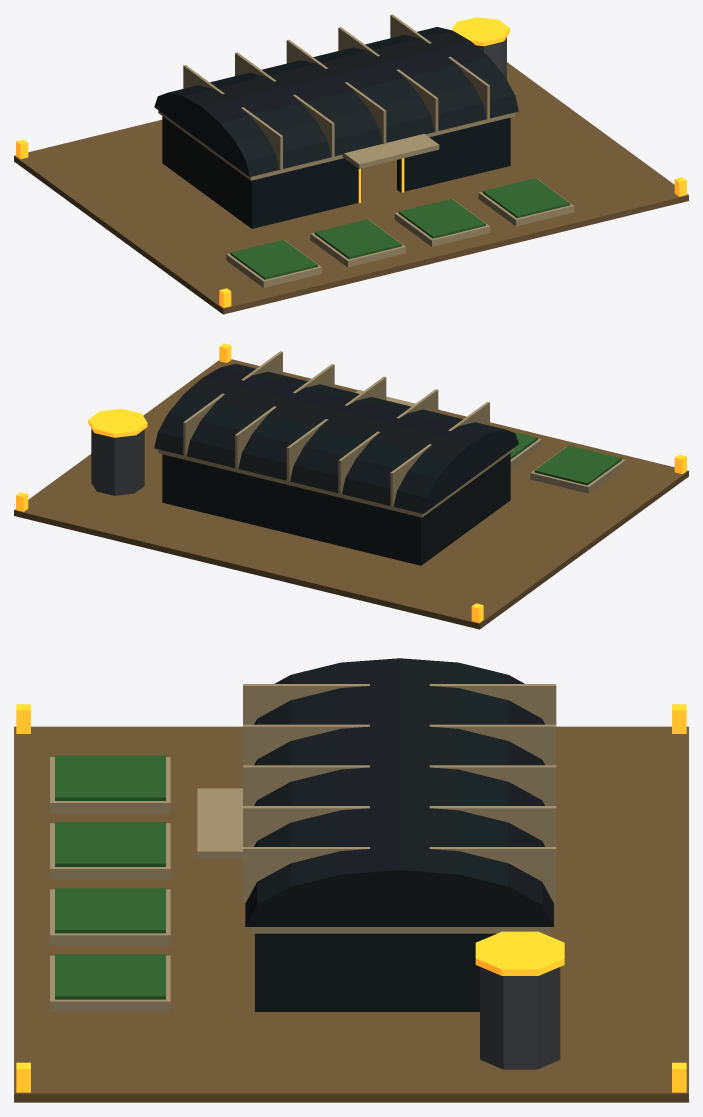
Rendered from shaddai_dist_desert_farm_v01.glb.
3 renders of one model, top to bottom at view 1: azimuth 30°, elevation 25°; view 2: azimuth 150°, elevation 25°; view 3: azimuth 270°, elevation 25°, orthographic. The views are drawn at different scales.
Parts seen in each view (by area): view 1: shaddai_dist_desert_farm; view 2: shaddai_dist_desert_farm; view 3: shaddai_dist_desert_farm.
Boxes of the visible parts, x1=… form: shaddai_dist_desert_farm: x1=14, y1=14, x2=688, y2=314; shaddai_dist_desert_farm: x1=14, y1=343, x2=688, y2=629; shaddai_dist_desert_farm: x1=14, y1=658, x2=688, y2=1102.
Bounding box in the file's own units: 36 × 7.1 × 28.
